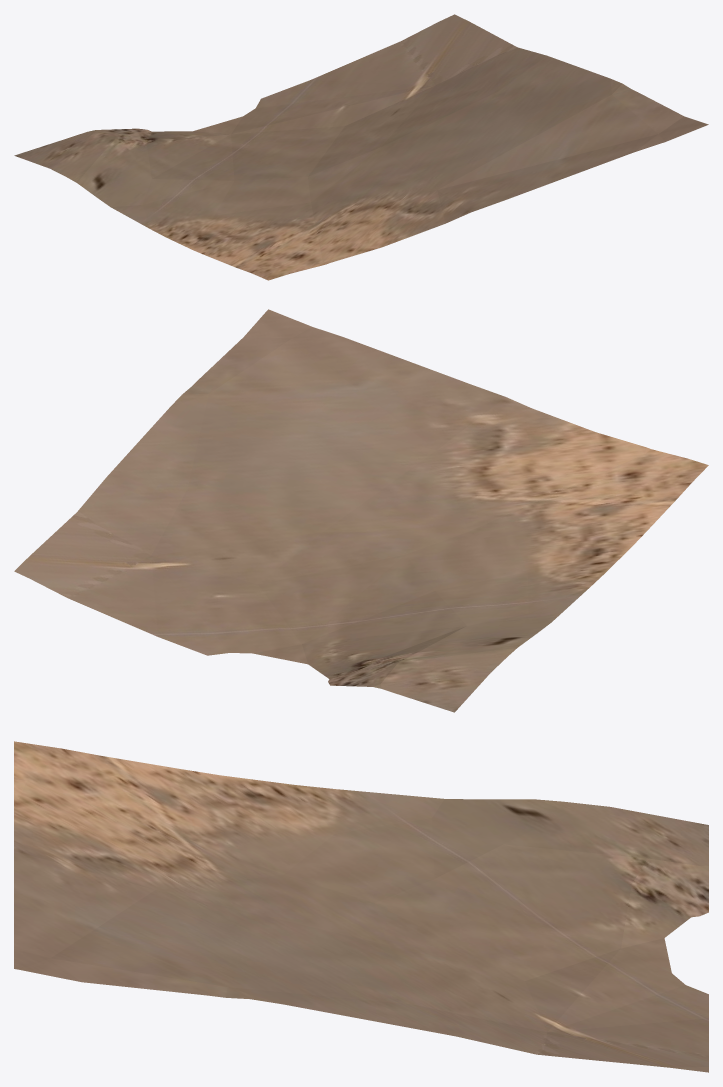
3 views of the same model, one above another, from view 1: azimuth 30°, elevation 25°; view 2: azimuth 150°, elevation 25°; view 3: azimuth 270°, elevation 25° (orthographic). The views are drawn at different scales.
Size of the model in its own units: 1.04 by 0.256 by 1.04.
Materials: 3 (3 with a texture image).
